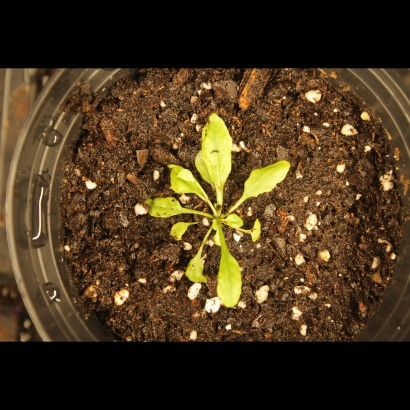leaf: (195, 109, 234, 190), (240, 154, 299, 204), (216, 237, 246, 313), (166, 157, 205, 207), (142, 191, 186, 223), (183, 249, 208, 288), (166, 214, 196, 245), (246, 214, 269, 249), (225, 210, 248, 233)
